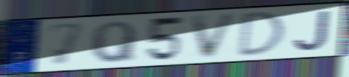5: (146, 16, 185, 63)
7: (46, 21, 85, 68)
D: (236, 10, 288, 59)
J: (292, 9, 332, 53)
Q: (90, 20, 138, 64)
V: (190, 11, 240, 61)
